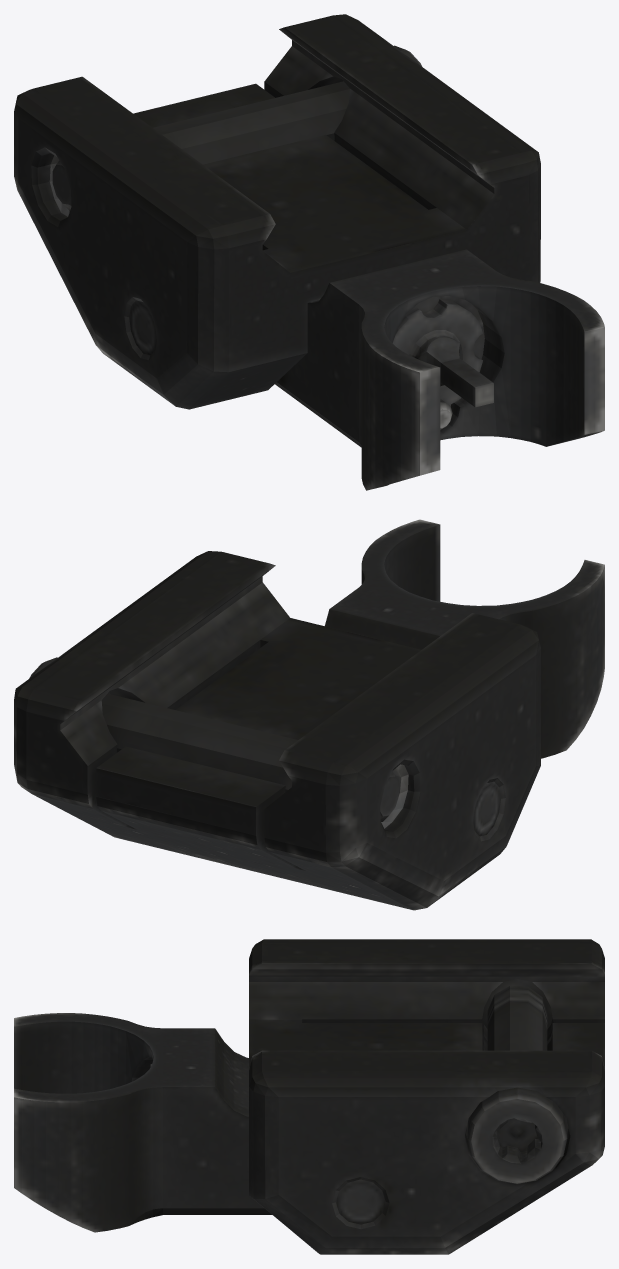
3 renders of one model, top to bottom at view 1: azimuth 30°, elevation 25°; view 2: azimuth 150°, elevation 25°; view 3: azimuth 270°, elevation 25°, orthographic. The views are drawn at different scales.
Parts seen in each view (by area): view 1: TW_5894a73486f77426d259076c_folded_PZ_Import; view 2: TW_5894a73486f77426d259076c_folded_PZ_Import; view 3: TW_5894a73486f77426d259076c_folded_PZ_Import.
Boxes of the visible parts, x1,y1,x2,y2 form: TW_5894a73486f77426d259076c_folded_PZ_Import: (14,14,604,490); TW_5894a73486f77426d259076c_folded_PZ_Import: (14,519,604,910); TW_5894a73486f77426d259076c_folded_PZ_Import: (14,939,604,1254).
Bounding box in the file's own units: 0.019 × 0.0308 × 0.0105.
Materials: 1 (1 with a texture image).
